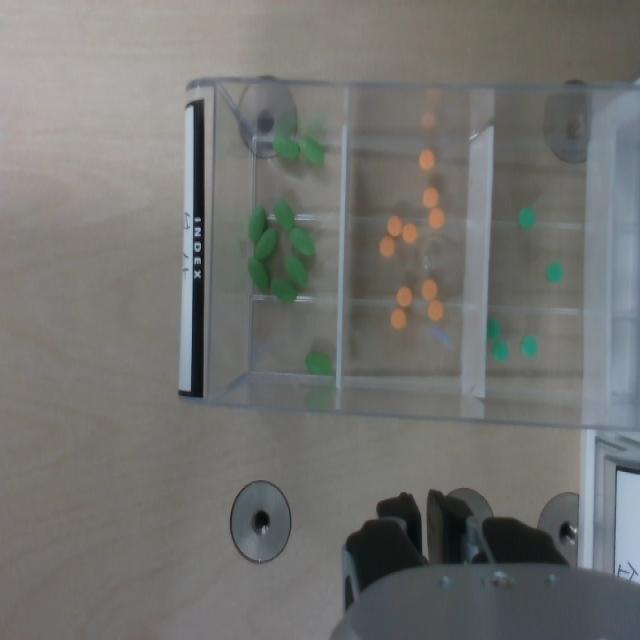famodine: (546, 262, 564, 281), (521, 336, 538, 356), (520, 206, 535, 228), (493, 343, 509, 361), (489, 318, 502, 340)
otillen_tab: (298, 133, 324, 165), (254, 229, 278, 261), (247, 257, 270, 290), (283, 256, 308, 286), (299, 135, 324, 164), (291, 227, 315, 257), (305, 349, 332, 375), (290, 227, 314, 256), (255, 226, 276, 259), (248, 256, 269, 289), (284, 255, 307, 285), (273, 274, 297, 302), (274, 199, 294, 232), (273, 135, 299, 160), (249, 207, 267, 243), (274, 200, 294, 232), (271, 279, 297, 303), (249, 206, 266, 240), (274, 137, 299, 160), (306, 352, 332, 373)
samsung_octylonium_tab: (419, 149, 435, 170), (423, 186, 439, 207), (430, 208, 446, 228), (422, 280, 437, 301), (380, 236, 395, 256), (387, 217, 402, 236), (397, 288, 412, 306), (430, 301, 444, 320), (392, 308, 405, 328), (403, 224, 417, 242)
